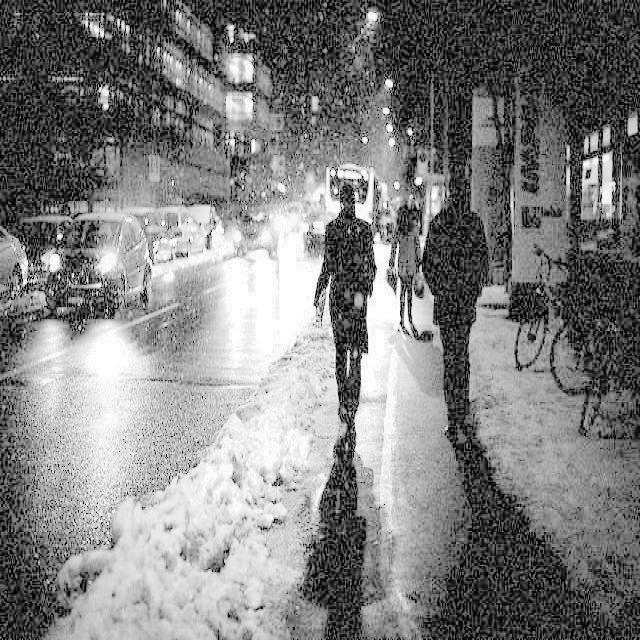Bicycle: (547, 290, 640, 406), (578, 293, 639, 457), (514, 234, 572, 394)
Bus: (318, 162, 379, 266)
Car: (46, 205, 163, 349), (22, 200, 74, 327), (190, 198, 244, 268), (125, 195, 167, 278), (0, 215, 25, 320), (161, 202, 198, 270)
Person: (426, 153, 501, 462), (322, 185, 379, 437), (390, 192, 431, 358)
